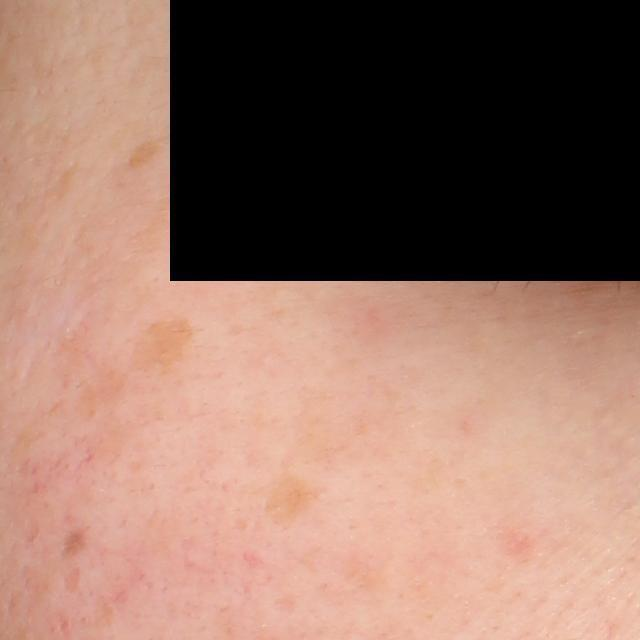atrophic_scar: (62, 565, 80, 598)
melasma: (251, 470, 342, 535), (123, 311, 203, 373), (136, 187, 186, 248), (129, 131, 178, 165)
